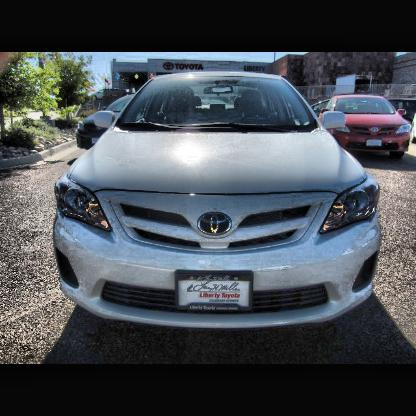Toyota Corolla Sedan 2012: (53, 68, 383, 332)
